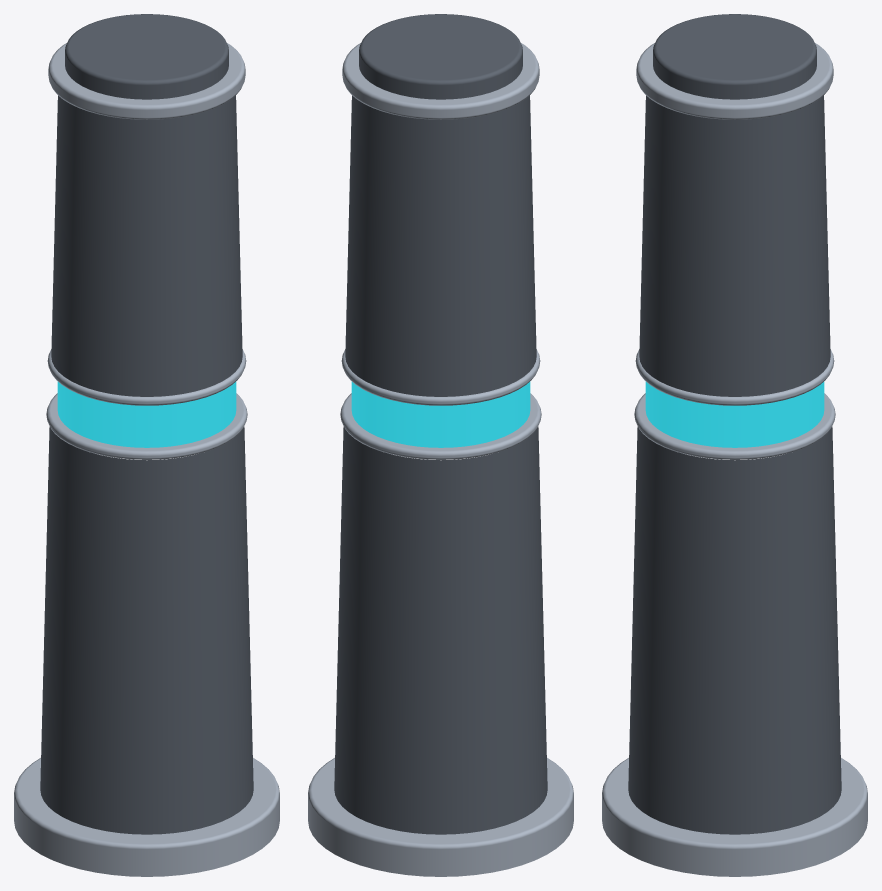
Rendered from column-halo.glb.
3 views of the same model, side by side, from view 1: azimuth 30°, elevation 25°; view 2: azimuth 150°, elevation 25°; view 3: azimuth 270°, elevation 25° (orthographic).
Parts seen in each view (by area): view 1: column-halo-body, column-halo-steel, column-halo-glow; view 2: column-halo-body, column-halo-steel, column-halo-glow; view 3: column-halo-body, column-halo-steel, column-halo-glow.
Boxes of the visible parts, x1,y1,x2,y2 form: column-halo-body: (40,14,253,834); column-halo-steel: (14,43,279,876); column-halo-glow: (57,381,236,447); column-halo-body: (334,14,547,834); column-halo-steel: (308,43,573,876); column-halo-glow: (351,381,530,447); column-halo-body: (628,14,841,834); column-halo-steel: (602,43,867,876); column-halo-glow: (645,381,824,447).
Size of the model in its own units: 3.24 by 10.4 by 3.24.
